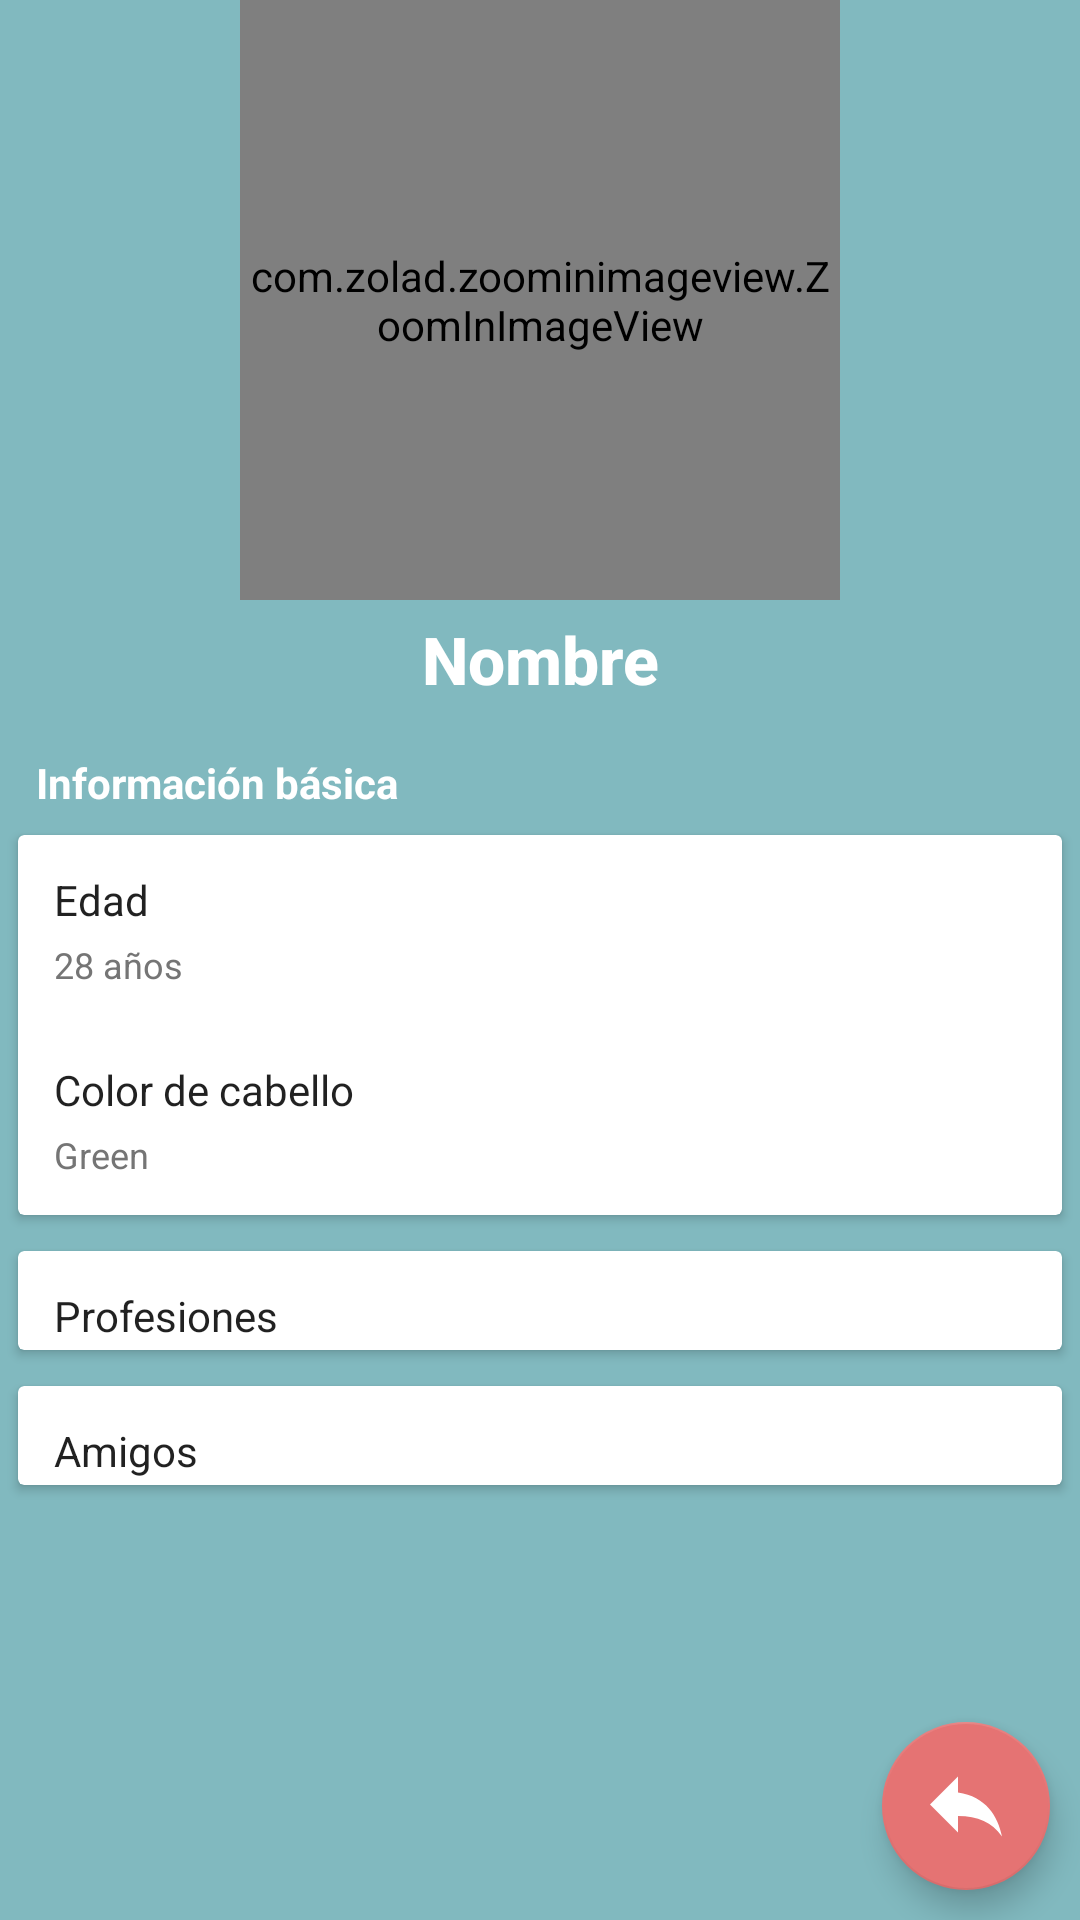

Screen size 1080w x 1920h. Icon name, then its box in pixels as (x1, y1, x2, y2):
return: (882, 1722, 1050, 1890)
